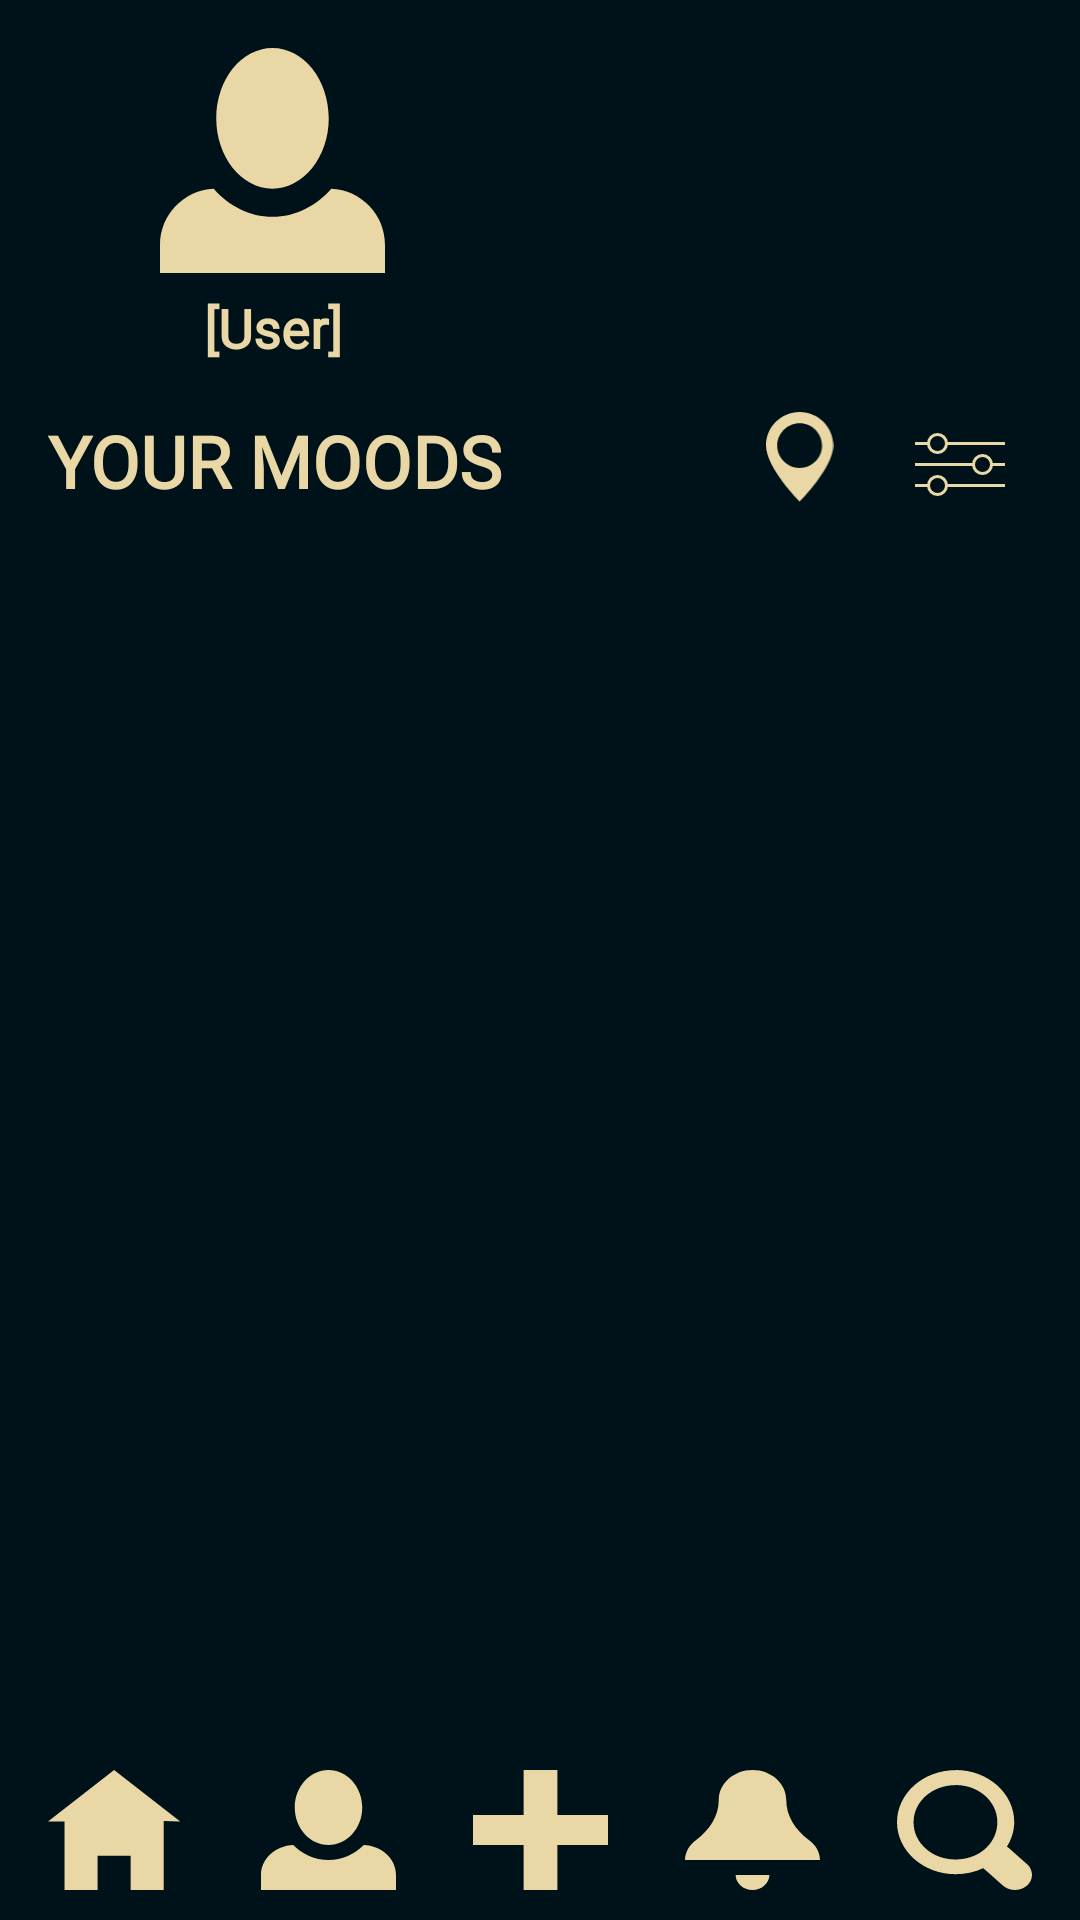

Where to tap for icons on this 1080px x 1920px app screen, as point (x, y):
Filter button: point (960, 464)
Map button: point (800, 457)
